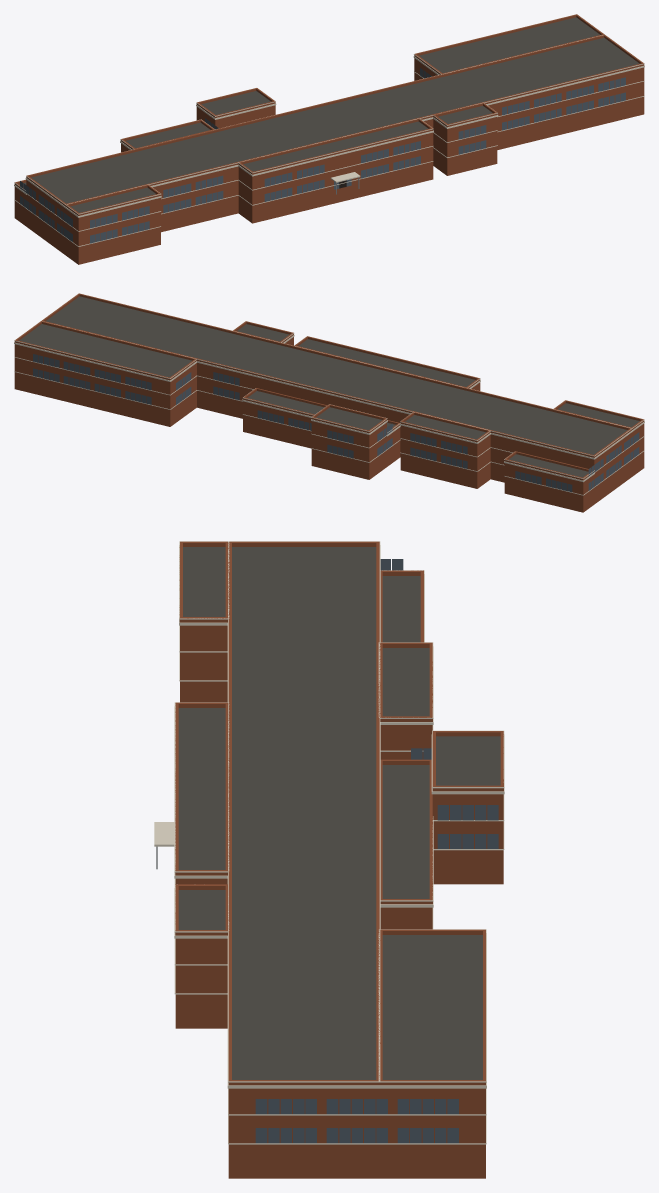
The model's file is nlr-middle-school-bo242165100.glb.
3 renders of one model, top to bottom at view 1: azimuth 30°, elevation 25°; view 2: azimuth 150°, elevation 25°; view 3: azimuth 270°, elevation 25°, orthographic. The views are drawn at different scales.
Visible parts, largest first — view 1: nlr_middle_school_bo242165100; view 2: nlr_middle_school_bo242165100; view 3: nlr_middle_school_bo242165100.
Boxes of the visible parts, left/top/right/bottom form: nlr_middle_school_bo242165100: left=14, top=14, right=644, bottom=264; nlr_middle_school_bo242165100: left=14, top=293, right=644, bottom=512; nlr_middle_school_bo242165100: left=154, top=541, right=504, bottom=1178.
Size of the model in its own units: 144 by 12.11 by 39.52.
